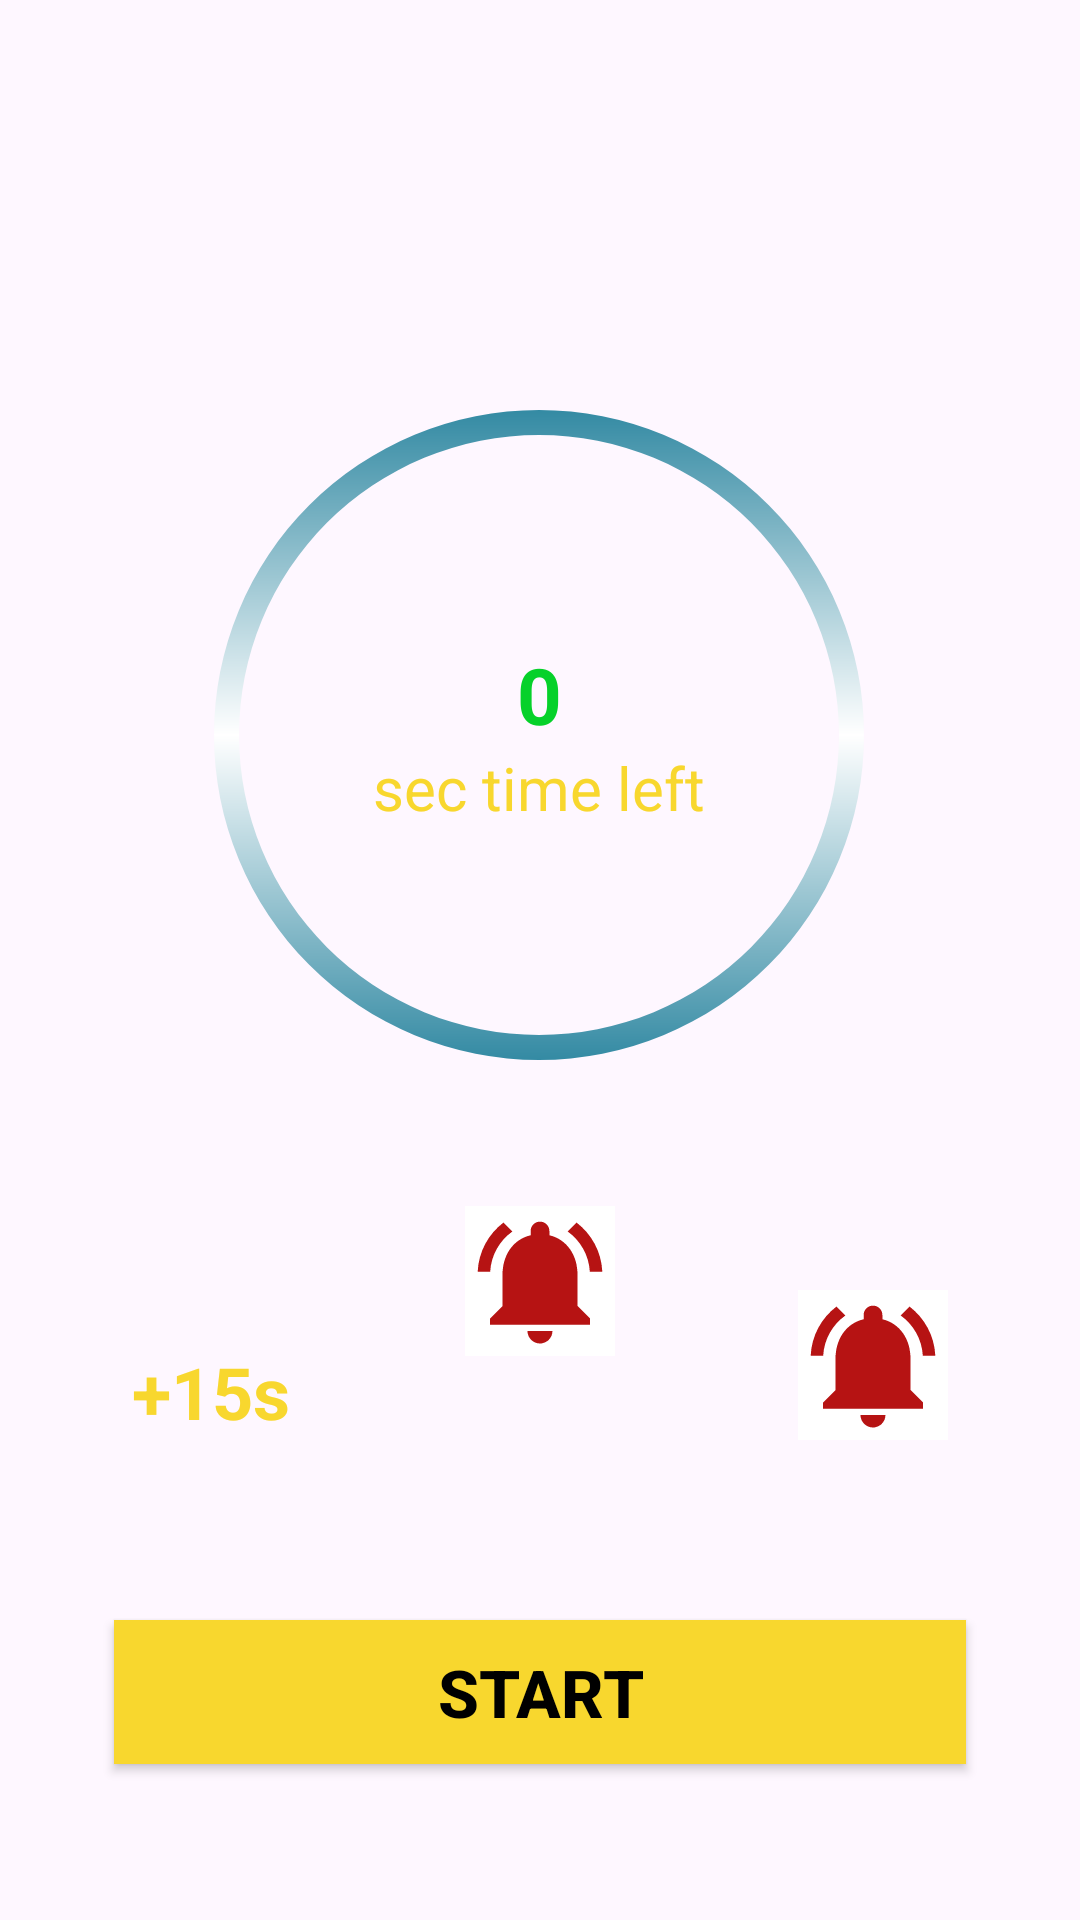

Where to tap for icons on this 1080px×1920px app screen, as (x=x, y=y):
notifications: (x=540, y=1282), (x=873, y=1366)
